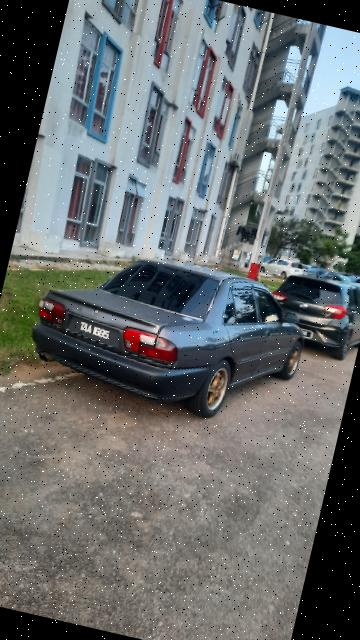License_Plate: (58, 309, 133, 357)
car: (22, 232, 324, 442)
